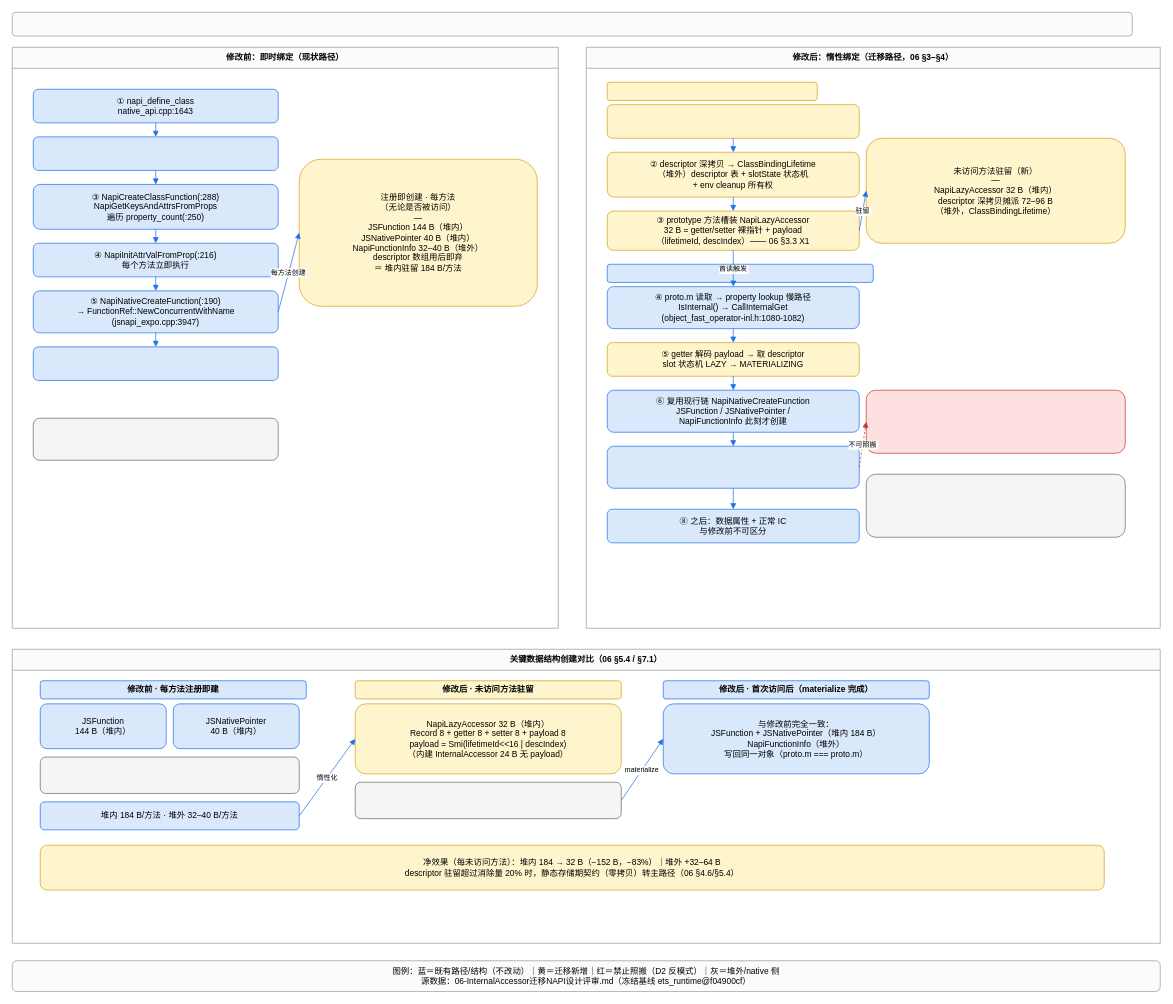
Some shapes in this 1173 by 1004 pixel diagram are drawn without their labels. Each missing label, with the centre of its shape:
A. 注册期（惰性化）: point (712, 91)
B. 首次读取 materialize（06 §4.2–4.3）: point (740, 273)
descriptor 深拷贝 72–96 B（堆外，ClassBindingLifetime）: point (488, 800)
InternalAccessor 迁移 NAPI：核心流程与数据结构对比（修改前 / 修改后）: point (572, 24)
module unload：env cleanup 释放 未物化 descriptor；DEAD 态 防悬空 getter（06 §4.5）: point (995, 505)
NapiFunctionInfo 32–40 B（堆外，注册即建）: point (169, 774)
① napi_define_class → NapiDefineClass 注册期开关控制惰性化（sendable 排除）: point (733, 121)
② NapiDefineClass ark_native_engine.cpp:333: point (155, 153)
⑥ prototype 槽位 = 数据属性（JSFunction）: point (155, 363)
⑦ 写回：SetProperty 等价路径 + MarkProtoChanged 原型链失效 (js_hclass-inl.h:379-399): point (733, 467)
注册即全量创建，与是否被访问无关 Top13 Bucket C：447,707 方法闭包 （61.47 MiB 上界）: point (155, 439)
禁止照搬：ResetLazyInternalAttr 原地改共享 LayoutInfo attr （内建场景专属，D2 反模式）: point (995, 421)
